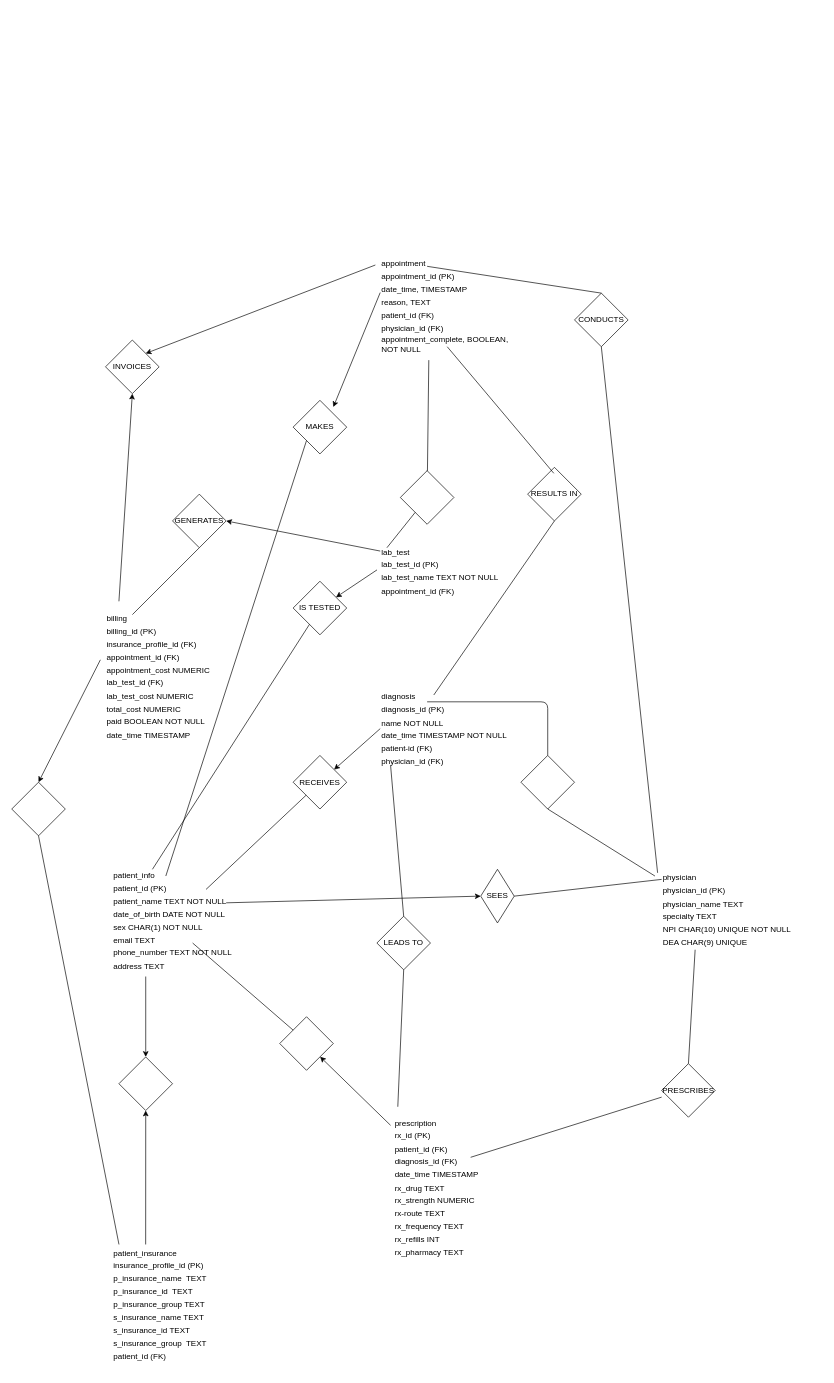
The diagram is 834 pixels wide and 1383 high, and some of its shapes have lost their labels. The shapes that lost their labels are listed below. From the top down, each one's box as (x1, y1, x2, y2) in pixels, then its label:
(400, 470, 454, 524): NECESSITATES
(520, 755, 575, 809): DIAGNOSES
(11, 782, 65, 836): BILLED
(279, 1016, 333, 1070): PRESCRIBED
(118, 1056, 173, 1111): CARRIES
